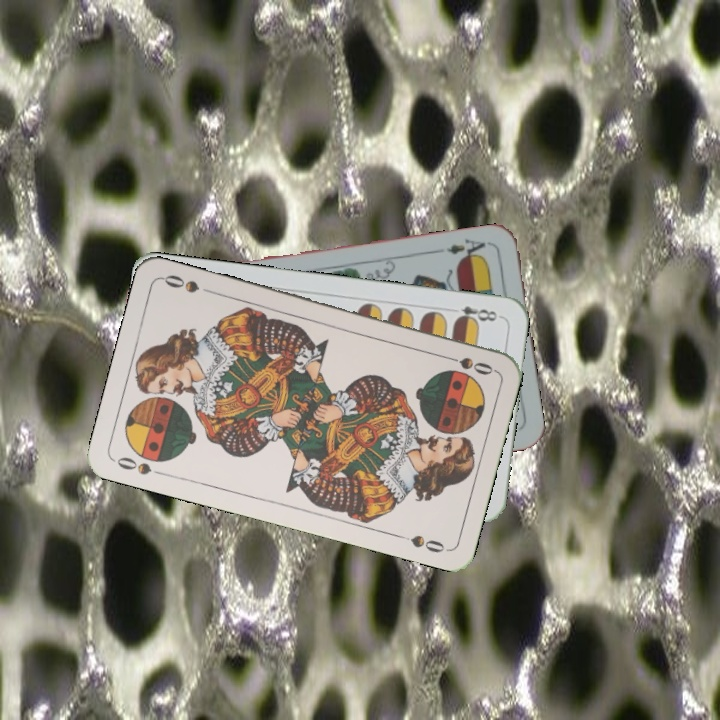E8: (451, 302, 503, 326)
EA: (442, 234, 493, 262)
SO: (110, 452, 169, 479), (439, 351, 497, 378)
